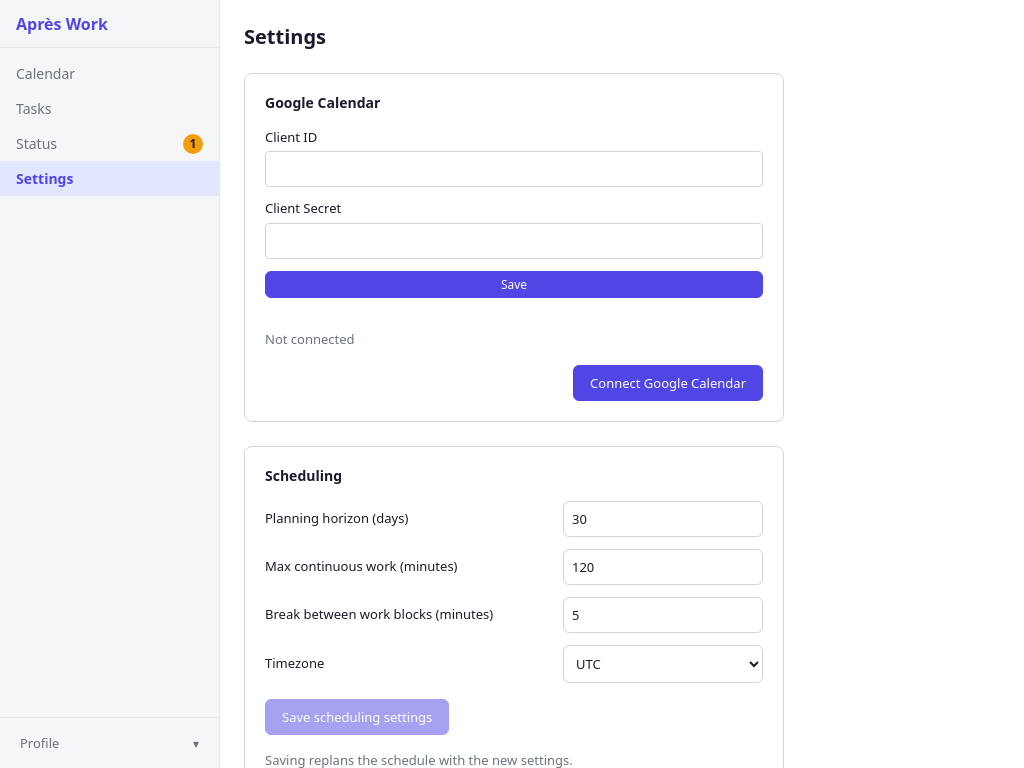
Test: Shell — status warnings modal › the close button dismisses the modal
Click the button named "1 warning" at [193, 144], box [183, 134, 203, 154]
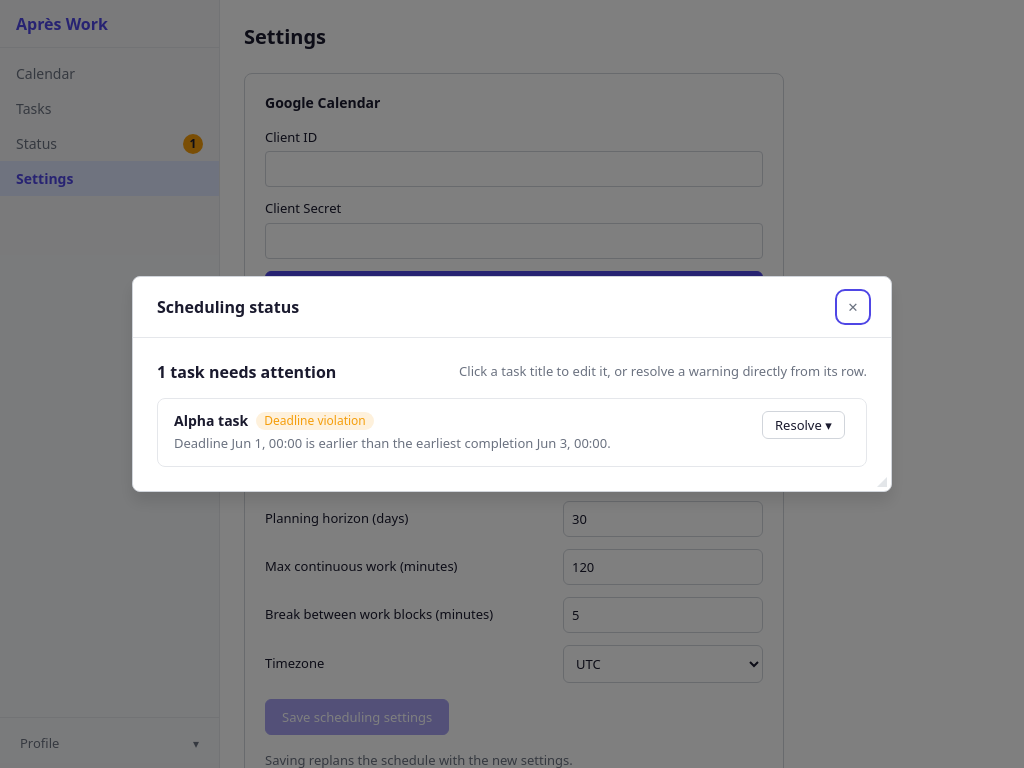
Click the button named "Close dialog" at [853, 307], box [839, 293, 867, 321]
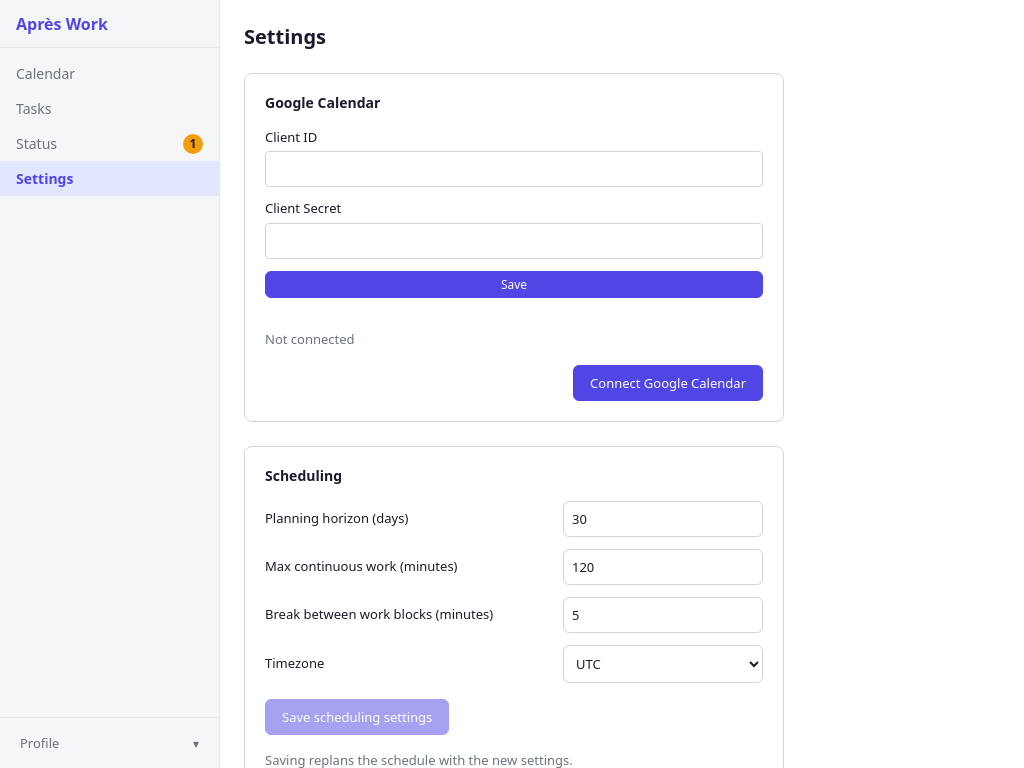
Check: the dialog is gone
